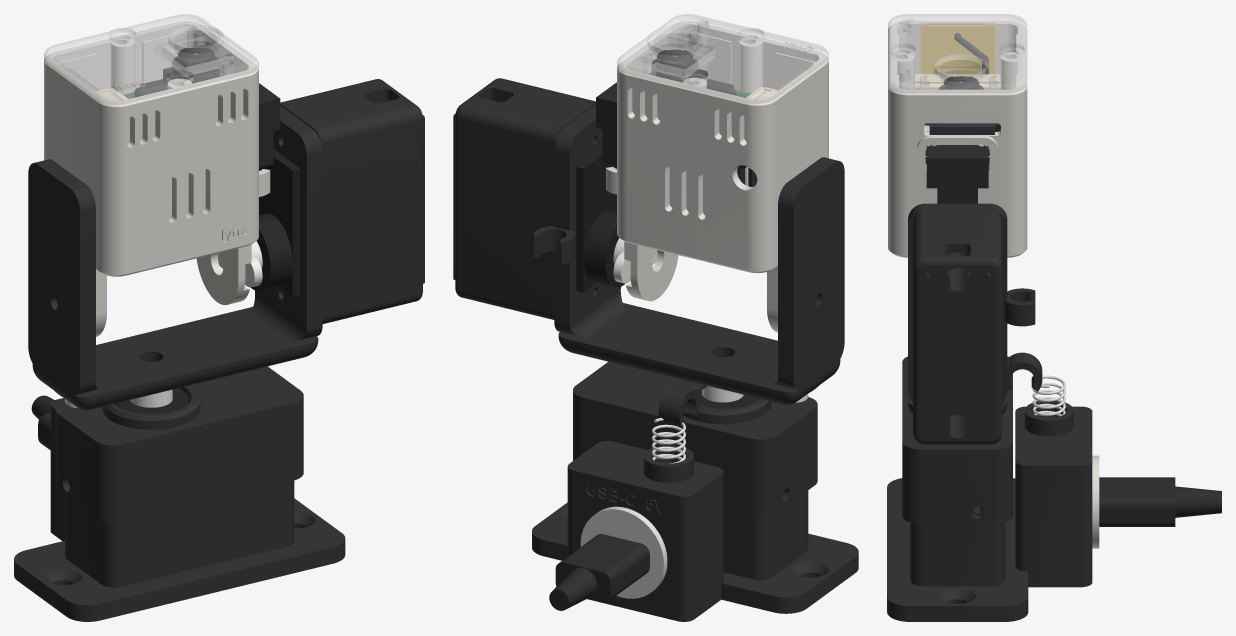
The model's file is lynx.glb.
3 views of the same model, side by side, from view 1: azimuth 30°, elevation 25°; view 2: azimuth 150°, elevation 25°; view 3: azimuth 270°, elevation 25° (orthographic). The views are drawn at different scales.
Parts seen in each view (by area): view 1: Base, Yoke, PanBase, PanCap, ServoShroud, Lid, Jig_Servo_Tilt, Jig_VentMesh, Board_black, Jig_USB_Plug_RA, Jig_Servo_Pan, Jig_USBC_PowerPlug (+1 smaller); view 2: Base, Yoke, PanBase, ServoShroud, PanCap, Lid, Jig_USBC_PowerPlug, Jig_Servo_Tilt, Jig_VentMesh, Jig_USB_PanelSocket, Board_black, Jig_USB_Plug_RA (+2 smaller); view 3: PanBase, ServoShroud, Base, Lid, PanCap, Jig_USBC_PowerPlug, Yoke, Jig_FPC_Antenna, Jig_USB_Plug_RA, Jig_SpringReliefs, Board_beige, Jig_MicroSD (+2 smaller).
Boxes of the visible parts, x1,y1,x2,y2 form: Base: [44, 21, 270, 336]; Yoke: [28, 105, 322, 410]; PanBase: [14, 398, 345, 621]; PanCap: [55, 366, 303, 523]; ServoShroud: [280, 79, 424, 323]; Lid: [44, 14, 258, 104]; Jig_Servo_Tilt: [250, 149, 299, 296]; Jig_VentMesh: [58, 32, 243, 218]; Board_black: [134, 47, 226, 97]; Jig_USB_Plug_RA: [259, 83, 280, 167]; Jig_Servo_Pan: [115, 388, 188, 413]; Jig_USBC_PowerPlug: [31, 395, 54, 450]; Base: [606, 21, 828, 332]; Yoke: [533, 104, 844, 427]; PanBase: [532, 441, 858, 621]; ServoShroud: [453, 78, 595, 319]; PanCap: [573, 361, 817, 516]; Lid: [617, 14, 828, 103]; Jig_USBC_PowerPlug: [549, 534, 649, 610]; Jig_Servo_Tilt: [576, 147, 624, 292]; Jig_VentMesh: [632, 32, 815, 215]; Jig_USB_PanelSocket: [580, 506, 667, 598]; Board_black: [649, 49, 736, 95]; Jig_USB_Plug_RA: [596, 82, 616, 165]; PanBase: [887, 401, 1092, 621]; ServoShroud: [913, 211, 1002, 444]; Base: [888, 20, 1027, 257]; Lid: [888, 14, 1026, 93]; PanCap: [902, 356, 1012, 524]; Jig_USBC_PowerPlug: [1099, 477, 1221, 526]; Yoke: [908, 203, 1042, 414]; Jig_FPC_Antenna: [920, 25, 994, 74]; Jig_USB_Plug_RA: [926, 145, 988, 203]; Jig_SpringReliefs: [1032, 375, 1065, 416]; Board_beige: [915, 74, 1000, 89]; Jig_MicroSD: [929, 123, 994, 134].
Size of the model in its own units: 0.0693 by 0.0948 by 0.0574.
